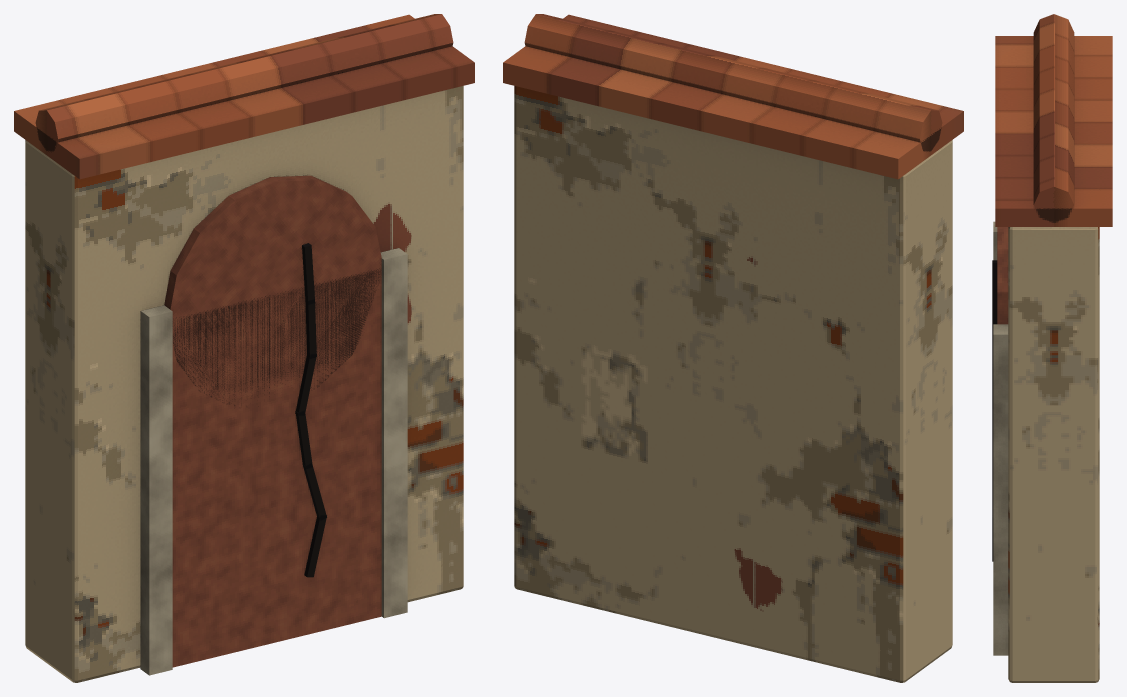
Rendered from vault_wall_siracusa.glb.
The picture shows the model from 3 angles, left to right: view 1: azimuth 30°, elevation 25°; view 2: azimuth 150°, elevation 25°; view 3: azimuth 270°, elevation 25°; orthographic projection. The views are drawn at different scales.
Visible parts, largest first — view 1: vault_wall_siracusa; view 2: vault_wall_siracusa; view 3: vault_wall_siracusa.
Boxes of the visible parts, x1=… form: vault_wall_siracusa: x1=14, y1=14, x2=474, y2=682; vault_wall_siracusa: x1=503, y1=14, x2=963, y2=682; vault_wall_siracusa: x1=992, y1=14, x2=1112, y2=682.
Size of the model in its own units: 2.02 by 2.72 by 0.595.
Materials: 5 (5 with a texture image).
